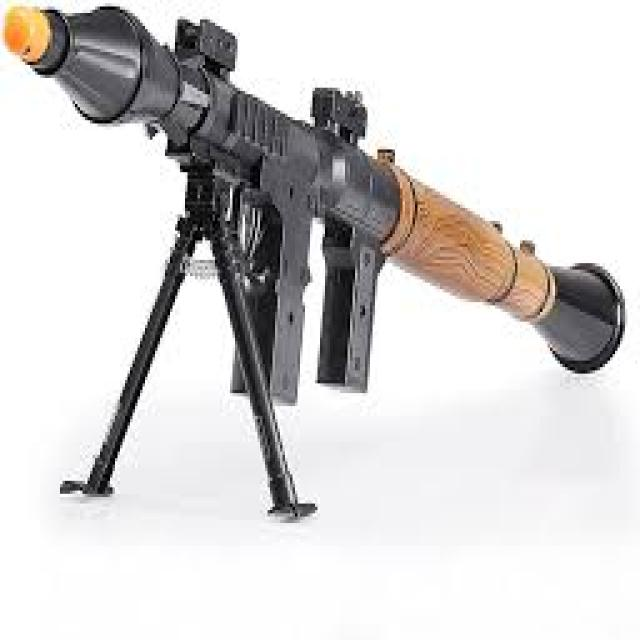bazooka: (1, 1, 640, 594)
